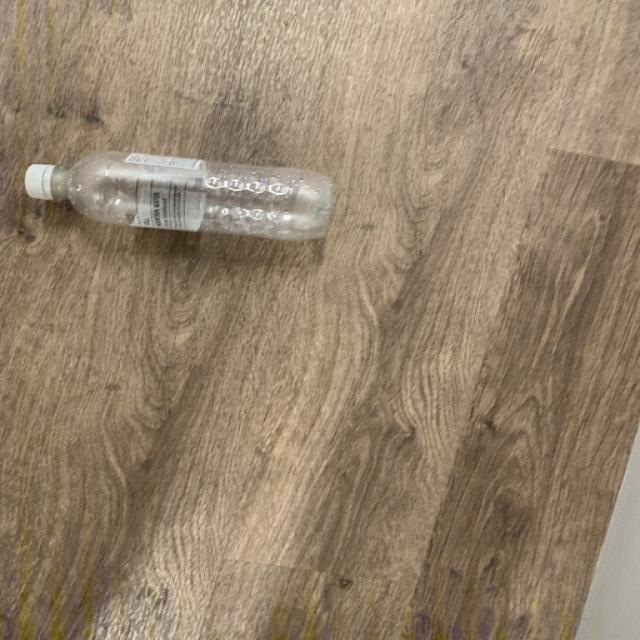Waste: (24, 151, 332, 240)
